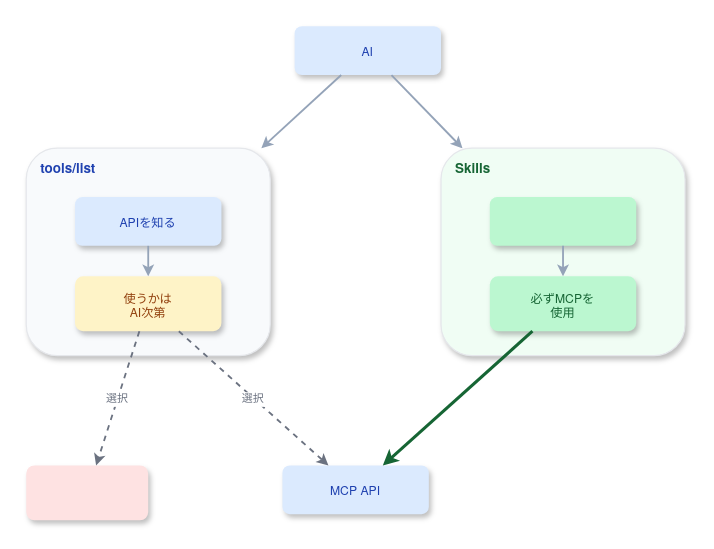
Some shapes in this 714 by 549 pixel diagram are drawn without their labels. Each missing label, with the centre of its shape:
"エディタ スクリプト" belongs at point (88, 494).
"ルールを 強制" belongs at point (563, 223).
